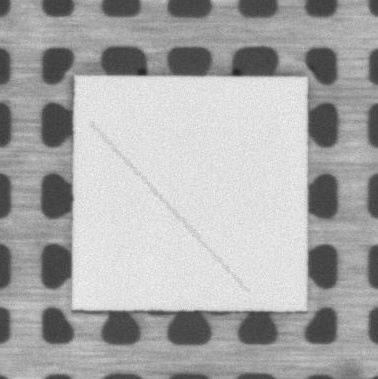DIE_CRACK: (92, 124, 247, 292)
